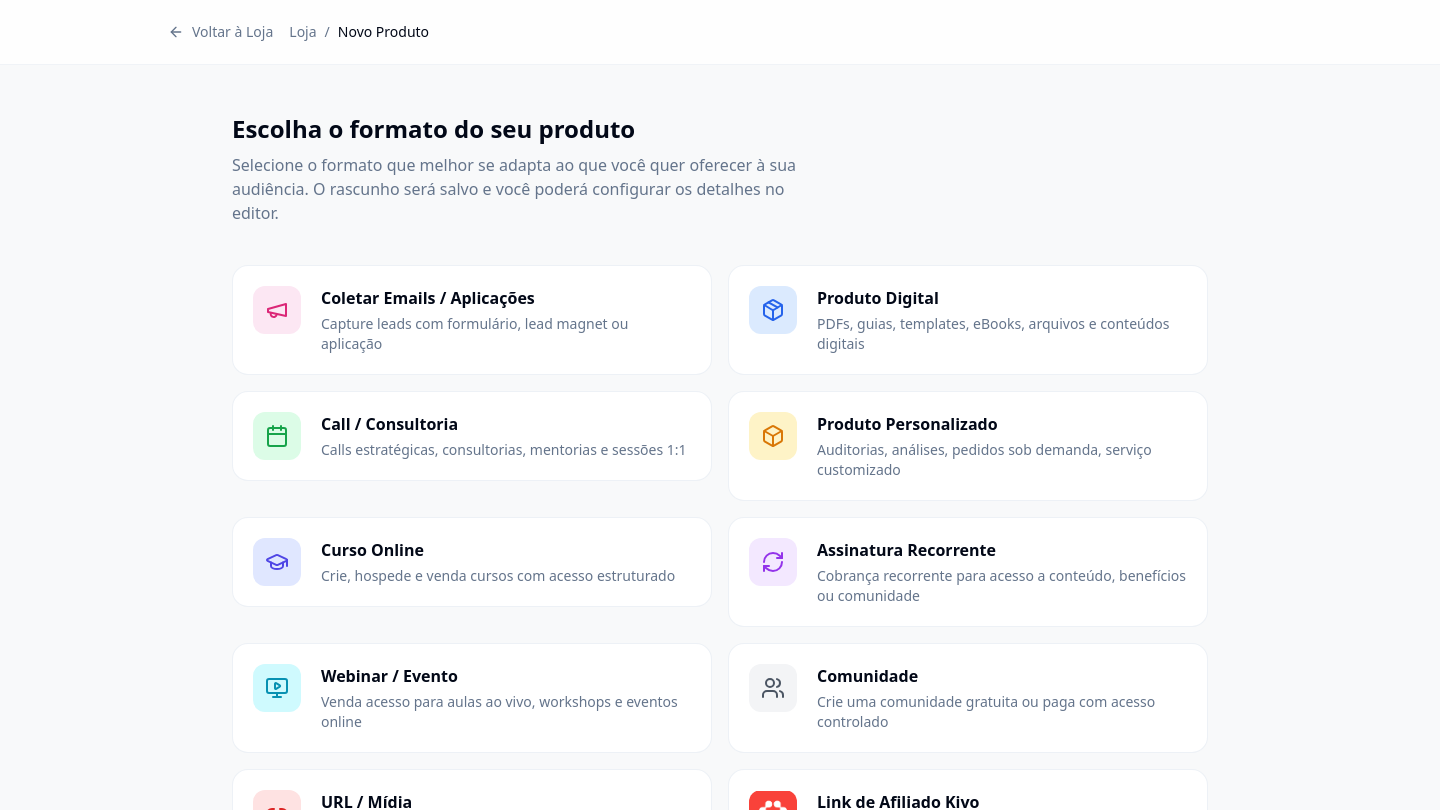
Test case: Fluxo: Novo produto → Coletar Emails → Editor › erro mostra alerta com Tentar novamente; retry cria e navega
The width and height of the screenshot is (1440, 810).
Later steps or results of the test are not shown.
Step 1. Click the button with test id "np-format-collect_emails" → (472, 320), box [232,265,712,375]
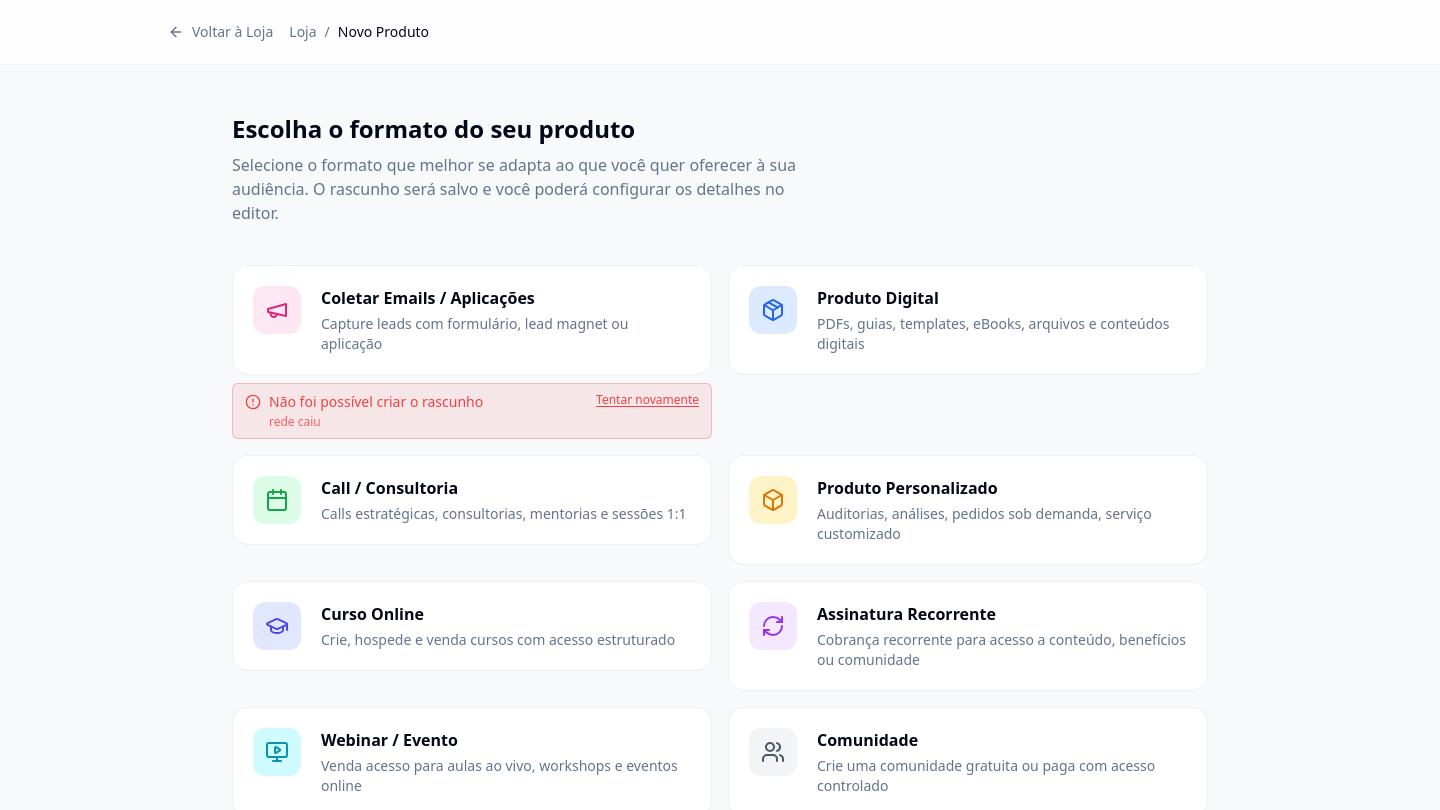
Expected: the message with test id "np-error-collect_emails" shows "rede caiu", [269,413,321,430]
